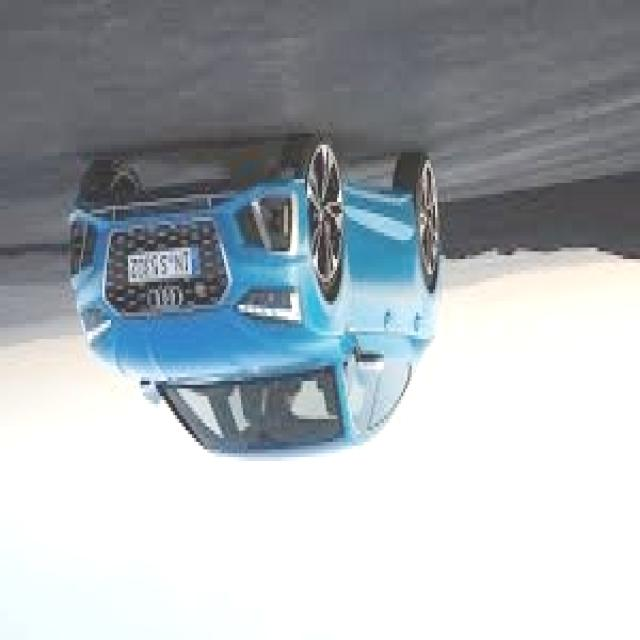blue: (65, 148, 449, 466)
